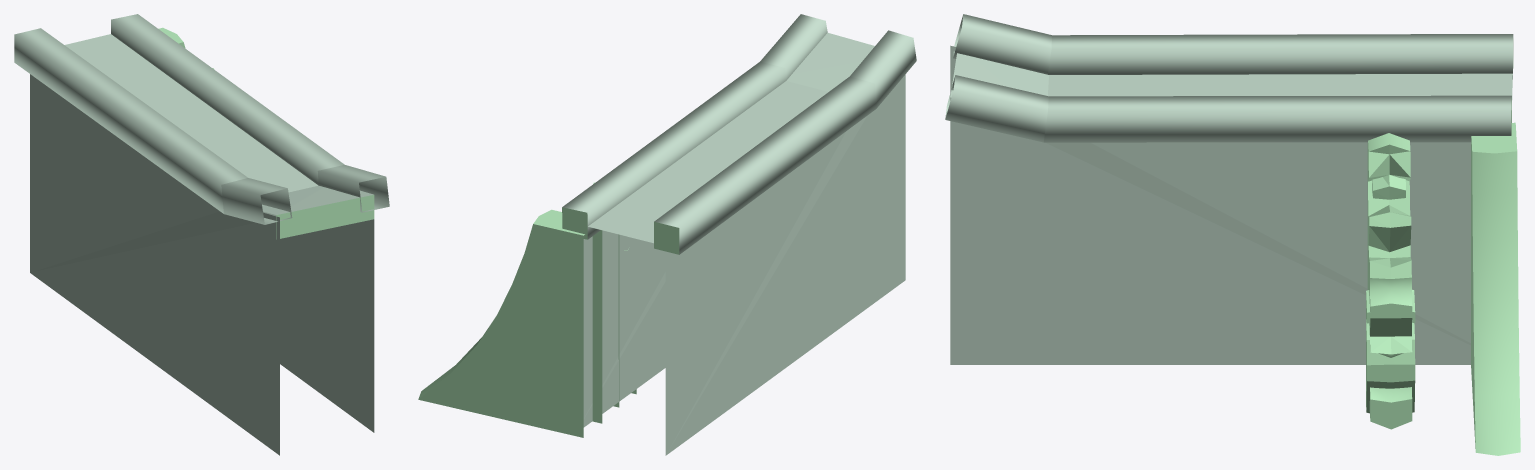
3 views of the same model, side by side, from view 1: azimuth 30°, elevation 25°; view 2: azimuth 150°, elevation 25°; view 3: azimuth 270°, elevation 25° (orthographic). The views are drawn at different scales.
Visible parts, largest first — view 1: Object63; view 2: Object63; view 3: Object63.
Boxes of the visible parts, x1,y1,x2,y2 form: Object63: (14,14,389,455); Object63: (418,14,916,455); Object63: (945,14,1520,455).
Bounding box in the file's own units: 373 × 360 × 602.
